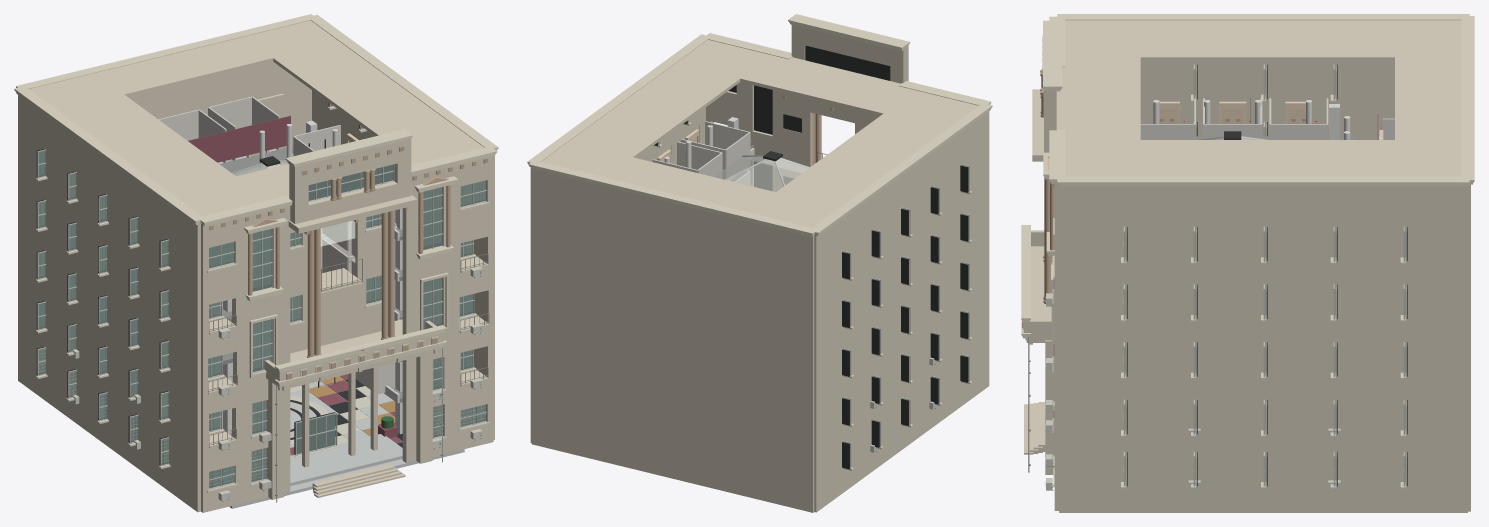
Rendered from atrium.glb.
The picture shows the model from 3 angles, left to right: view 1: azimuth 30°, elevation 25°; view 2: azimuth 150°, elevation 25°; view 3: azimuth 270°, elevation 25°; orthographic projection. The views are drawn at different scales.
Visible parts, largest first — view 1: Exterior_side_wall_-1, Main_roof_right, Main_roof_left, Main_roof_rear, Exterior_rear_facade_wall, Main_roof_front, Entrance_vestibule_floor, Exterior_side_wall_1, Gallery_wall_accent_5, Side_roof_cornice_-1.002, Rear_roof_cornice.002, Side_roof_cornice_1.002 (+45 smaller); view 2: Exterior_rear_facade_wall, Exterior_side_wall_-1, Main_roof_right, Main_roof_left, Main_roof_front, Main_roof_rear, Rear_roof_cornice.002, Side_roof_cornice_-1.002, Skylight_glazing_shell, Side_roof_cornice_1.002, Exterior_side_wall_1, Central_upper_block_sec_1_2 (+11 smaller); view 3: Exterior_side_wall_1, Exterior_side_wall_-1, Main_roof_left, Main_roof_front, Main_roof_right, Main_roof_rear, Side_roof_cornice_1.002, Side_roof_cornice_-1.002, Rear_roof_cornice.002, Central_roof_cornice.002, Entrance_canopy_slab, Exterior_rear_facade_wall (+9 smaller).
Boxes of the visible parts, x1,y1,x2,y2 form: Exterior_side_wall_-1: (18,95,200,512); Main_roof_right: (250,21,481,162); Main_roof_left: (39,73,265,223); Main_roof_rear: (29,20,339,110); Exterior_rear_facade_wall: (128,62,311,148); Main_roof_front: (170,126,483,223); Entrance_vestibule_floor: (290,434,402,485); Exterior_side_wall_1: (312,90,494,439); Gallery_wall_accent_5: (188,115,290,162); Side_roof_cornice_-1.002: (14,88,205,222); Rear_roof_cornice.002: (16,14,316,90); Side_roof_cornice_1.002: (308,14,498,149); Exterior_rear_facade_wall: (531,169,814,512); Exterior_side_wall_-1: (814,111,989,512); Main_roof_right: (541,40,771,177); Main_roof_left: (749,90,955,227); Main_roof_front: (676,39,978,128); Main_roof_rear: (546,141,838,226); Rear_roof_cornice.002: (528,160,817,234); Side_roof_cornice_-1.002: (809,104,992,234); Skylight_glazing_shell: (715,156,808,191); Side_roof_cornice_1.002: (527,34,707,163); Exterior_side_wall_1: (530,107,705,442); Central_upper_block_sec_1_2: (804,28,890,65); Exterior_side_wall_1: (1059,187,1467,512); Exterior_side_wall_-1: (1140,61,1394,139); Main_roof_left: (1065,20,1461,61); Main_roof_front: (1057,20,1140,176); Main_roof_right: (1065,140,1461,176); Main_roof_rear: (1395,20,1461,176); Side_roof_cornice_1.002: (1057,176,1469,183); Side_roof_cornice_-1.002: (1057,14,1469,20); Rear_roof_cornice.002: (1461,16,1474,181); Central_roof_cornice.002: (1043,20,1062,88); Entrance_canopy_slab: (1025,246,1054,340); Exterior_rear_facade_wall: (1468,183,1470,511).
Size of what is drawn, in the model's own units: 32.66 by 32.98 by 35.66.
